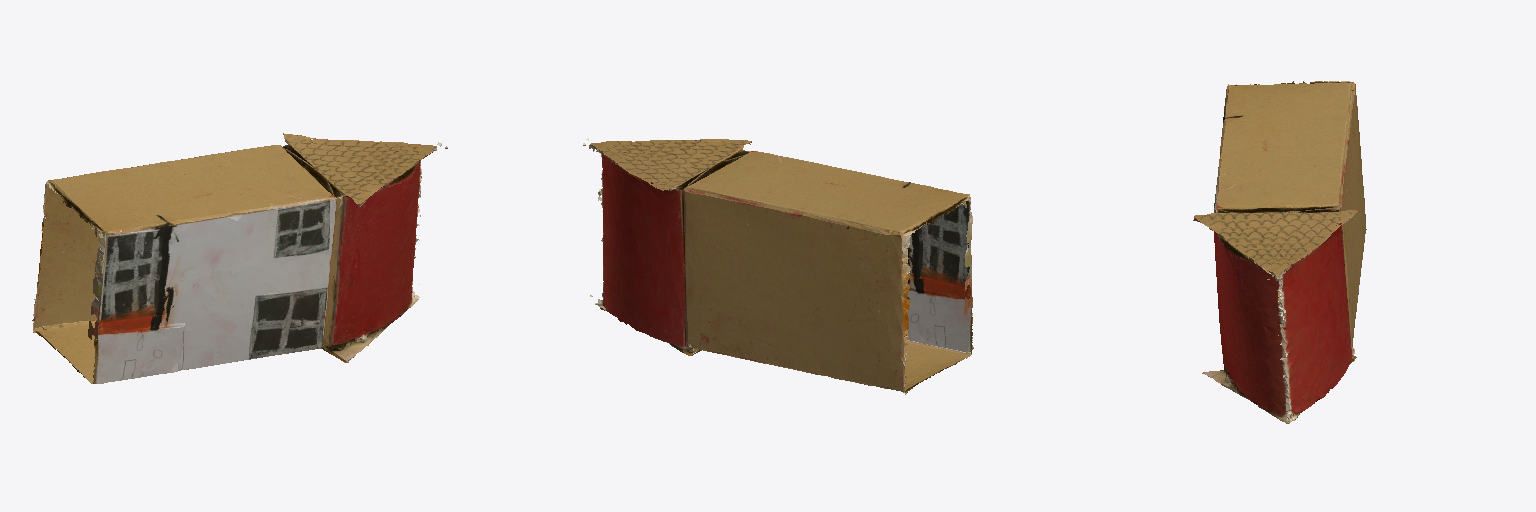
3 renders of one model, left to right at view 1: azimuth 30°, elevation 25°; view 2: azimuth 150°, elevation 25°; view 3: azimuth 270°, elevation 25°, orthographic.
Size of the model in its own units: 3.35 by 1.57 by 1.35.
Materials: 1 (1 with a texture image).